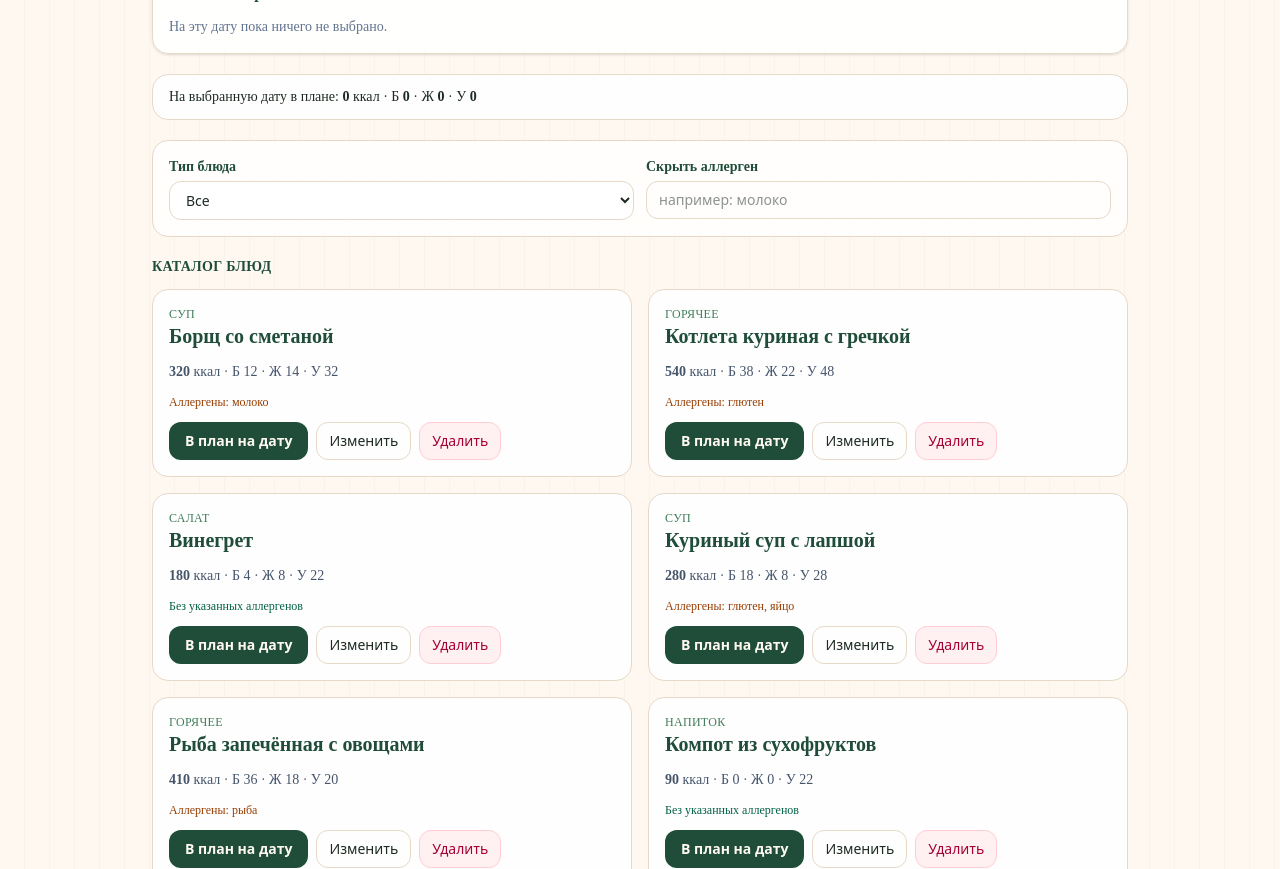
App MenuBoard — планировщик еды › убирает выбранную позицию из плана дня
(page scrolled)
Expected: the element with test id "dish-d-borscht" is shown, [152, 289, 632, 477]
Click the button with test id "toggle-plan-d-borscht" at (239, 441), box [169, 422, 308, 460]
(page scrolled)
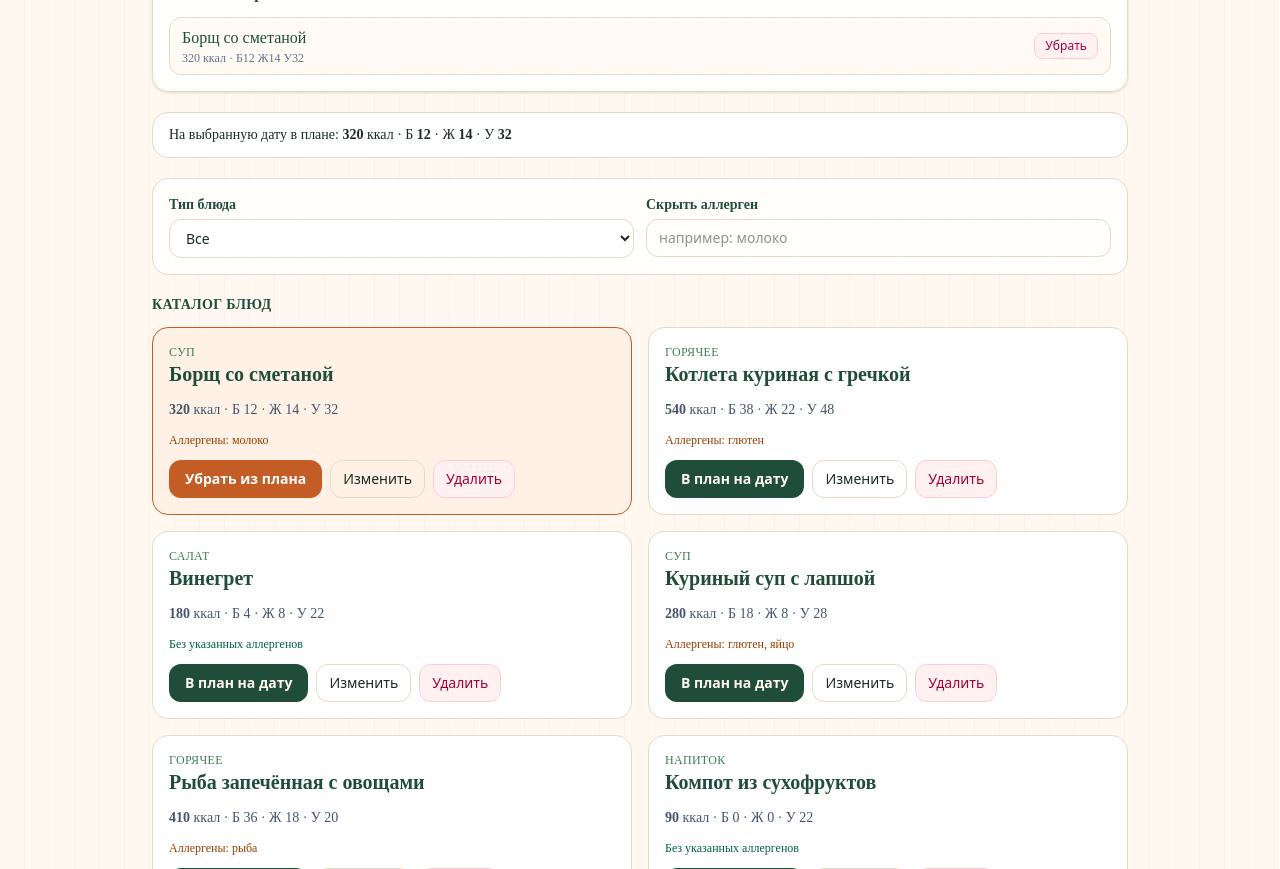
Click the button "Убрать" at (1066, 46), box [1034, 33, 1098, 59]
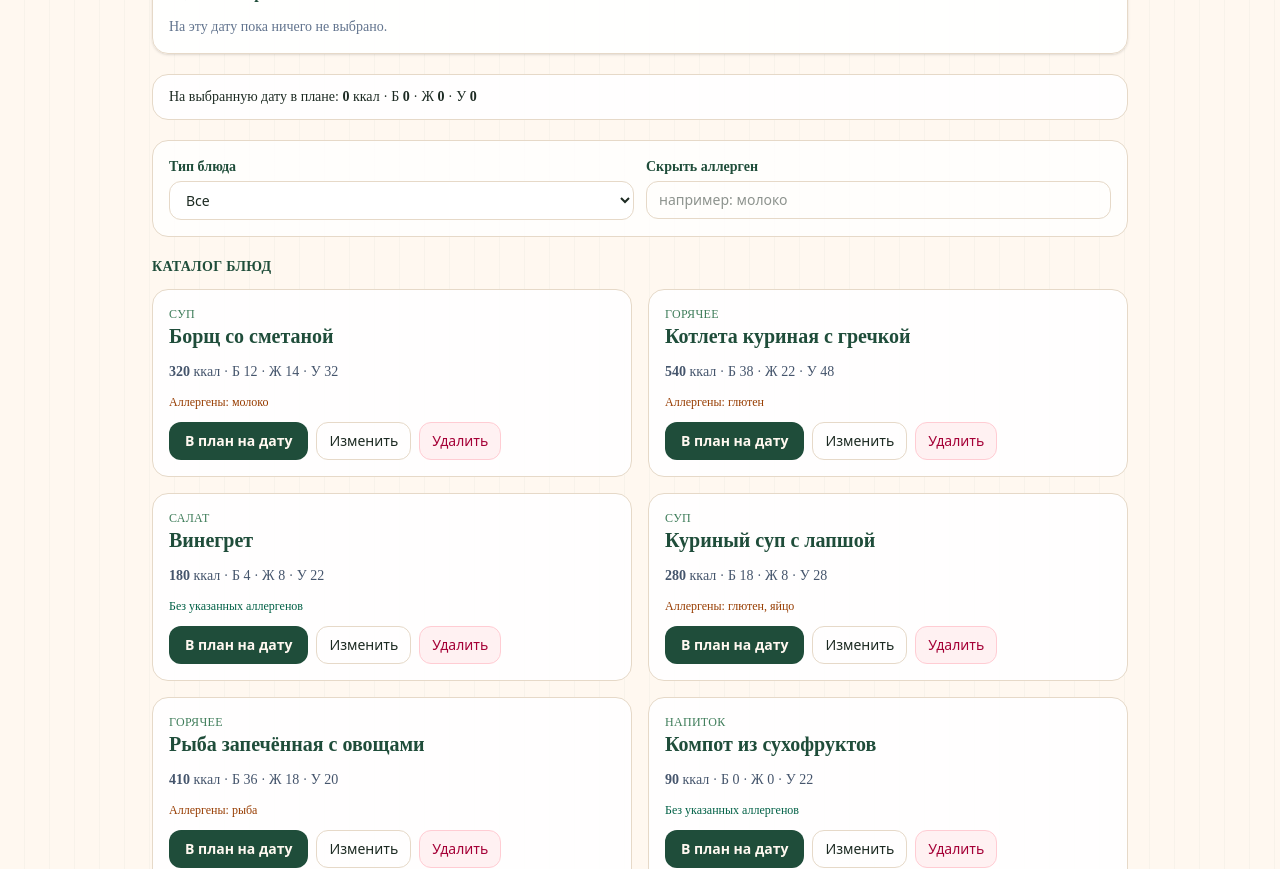
Expected: the text "На эту дату пока ничего не выбрано." is shown, [169, 19, 387, 34]
